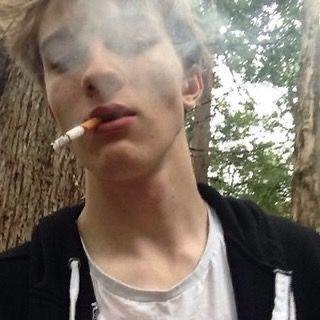cigarette: (49, 116, 104, 153)
